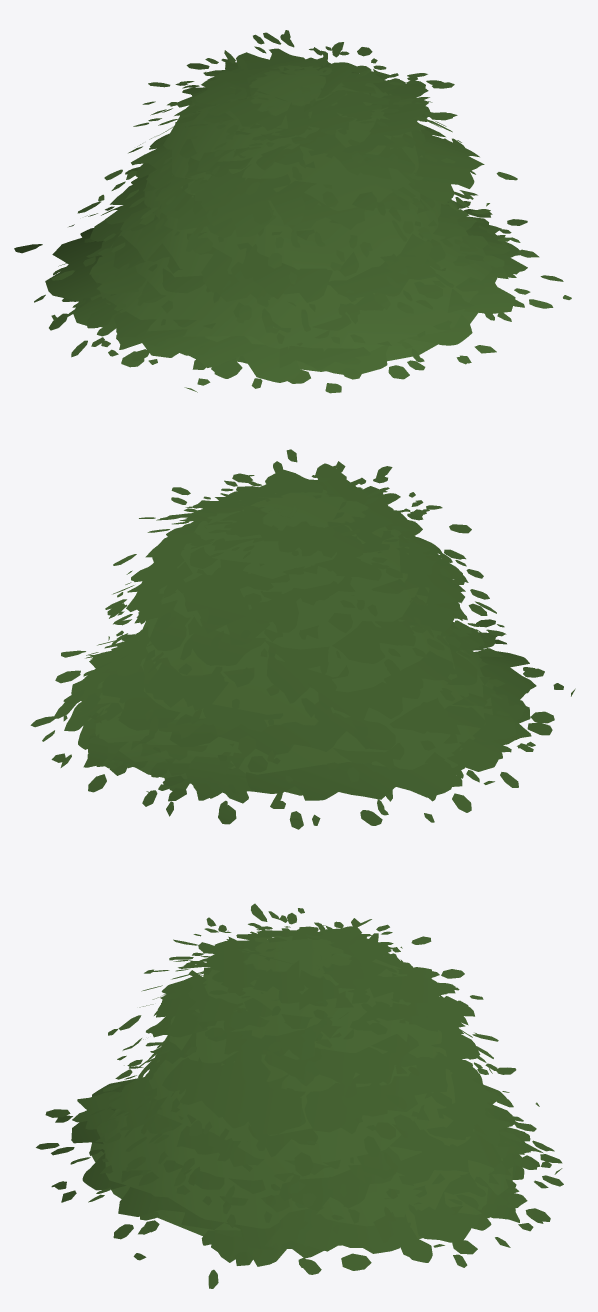
The model's file is SM_Env_Hedge_01.fbx.
3 renders of one model, top to bottom at view 1: azimuth 30°, elevation 25°; view 2: azimuth 150°, elevation 25°; view 3: azimuth 270°, elevation 25°, orthographic. The views are drawn at different scales.
Parts seen in each view (by area): view 1: SM_Env_Hedge_01_LOD0; view 2: SM_Env_Hedge_01_LOD0; view 3: SM_Env_Hedge_01_LOD0.
Boxes of the visible parts, bbox=[...] form: SM_Env_Hedge_01_LOD0: bbox=[14, 30, 571, 393]; SM_Env_Hedge_01_LOD0: bbox=[30, 449, 575, 829]; SM_Env_Hedge_01_LOD0: bbox=[36, 903, 563, 1288].
Size of what is drawn, in the model's own units: 418 by 223 by 427.
